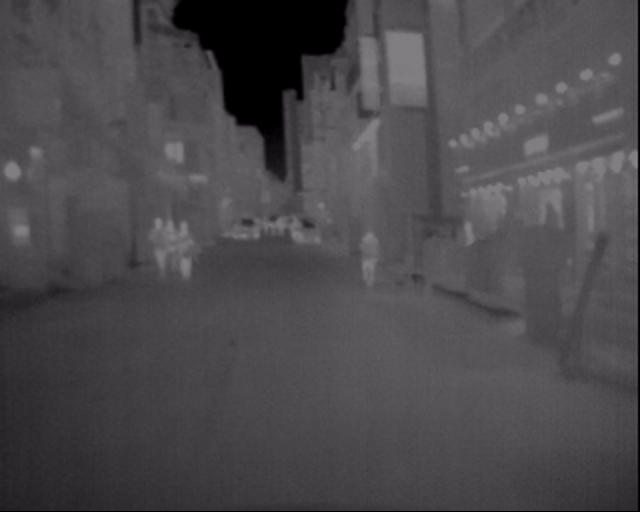person: (142, 202, 177, 291), (168, 209, 202, 291), (352, 224, 382, 288)
